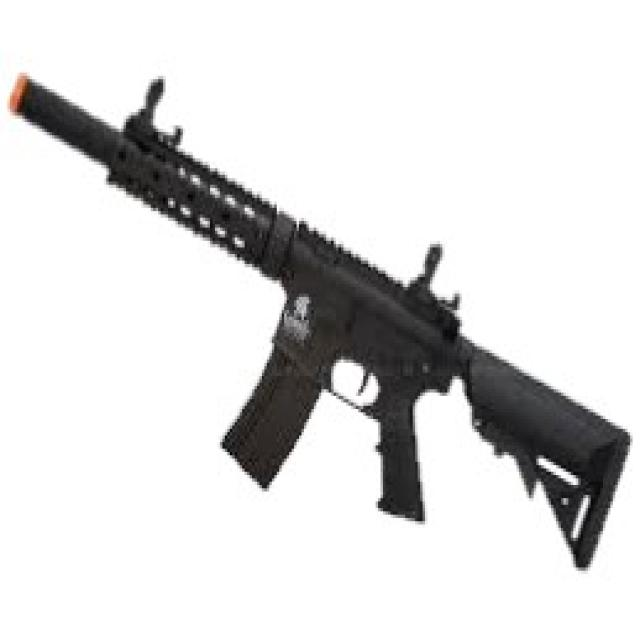rifle: (4, 64, 637, 587)
